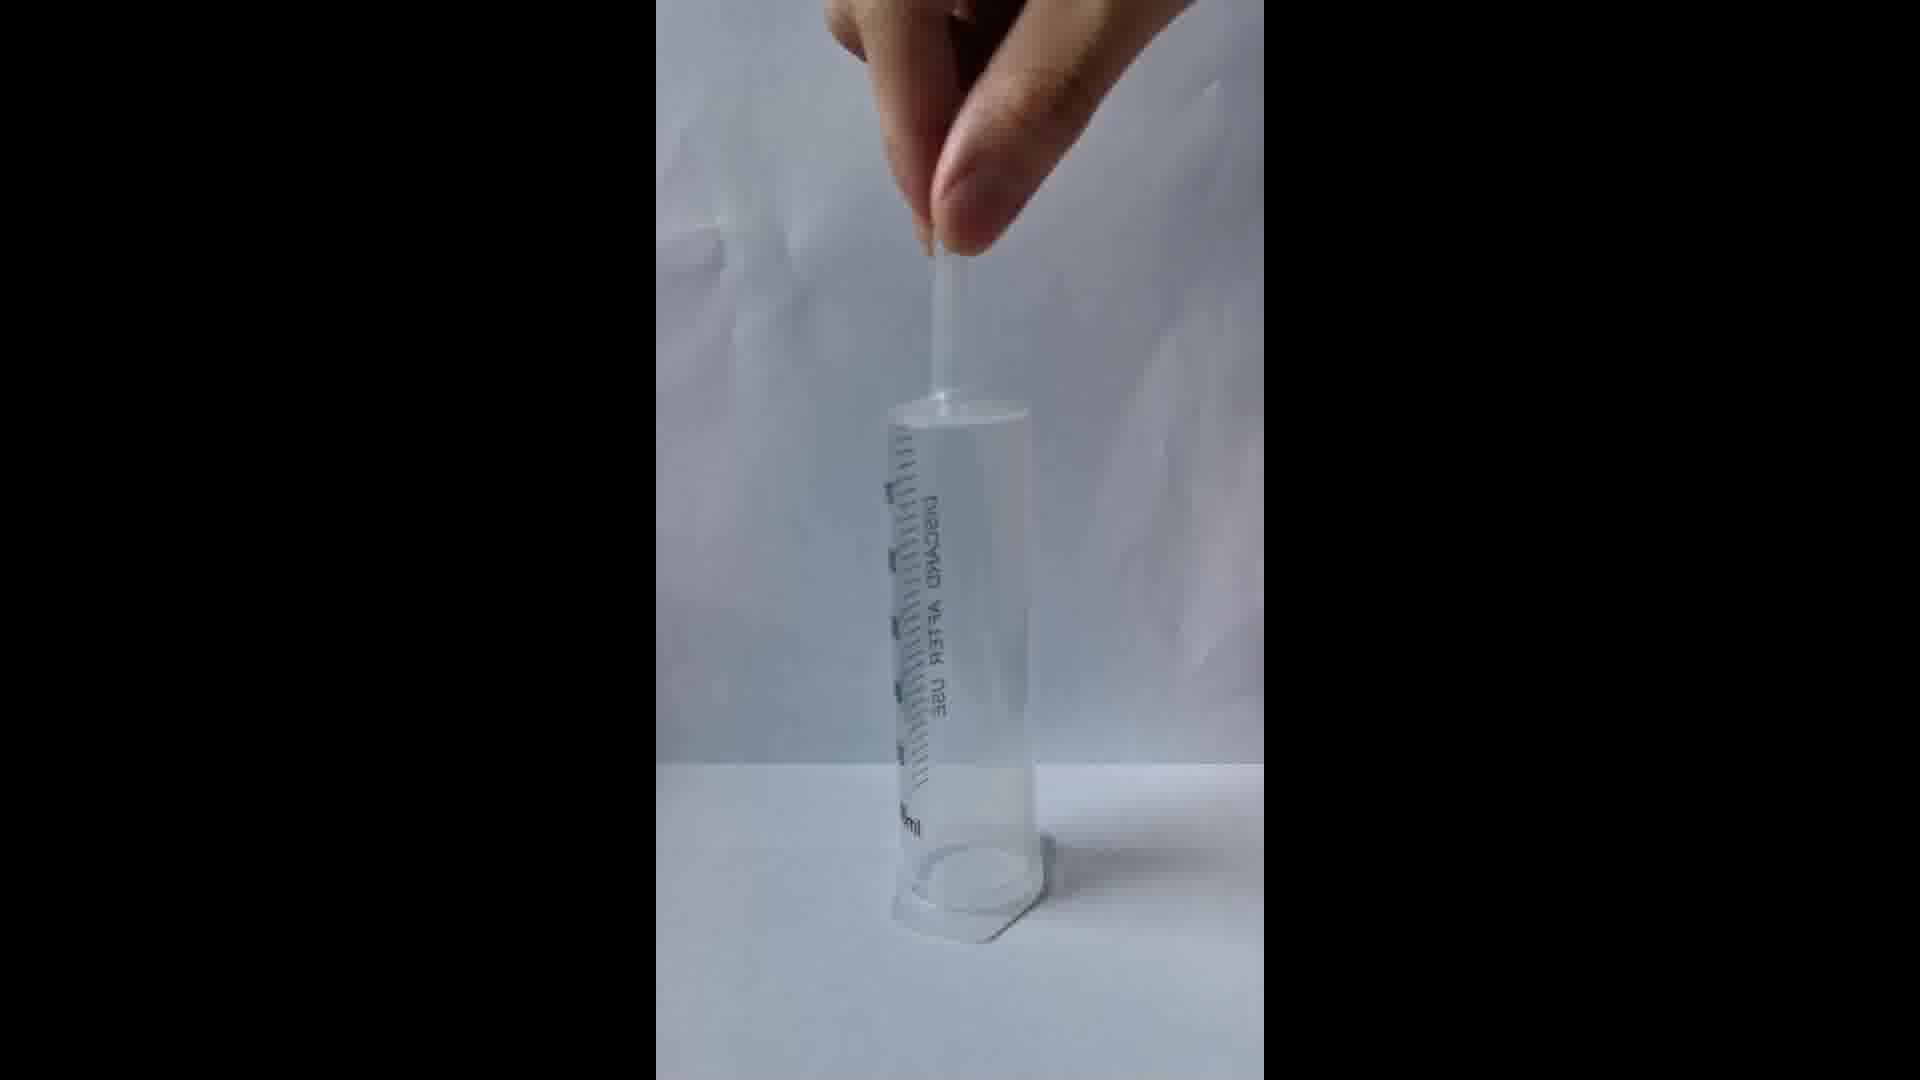syringe: (866, 258, 1073, 951)
